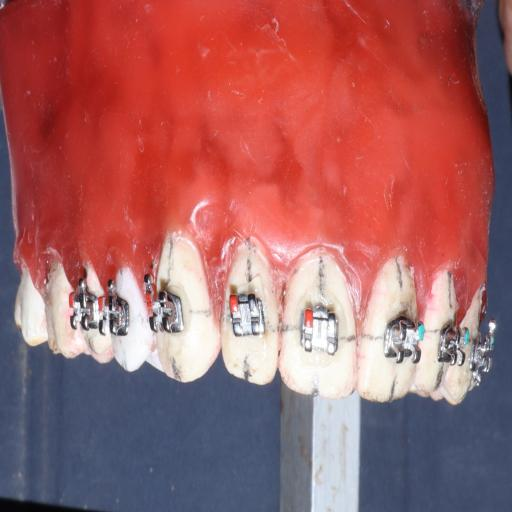incorrect_brace: (220, 238, 280, 387), (298, 301, 338, 356), (228, 289, 264, 340)
